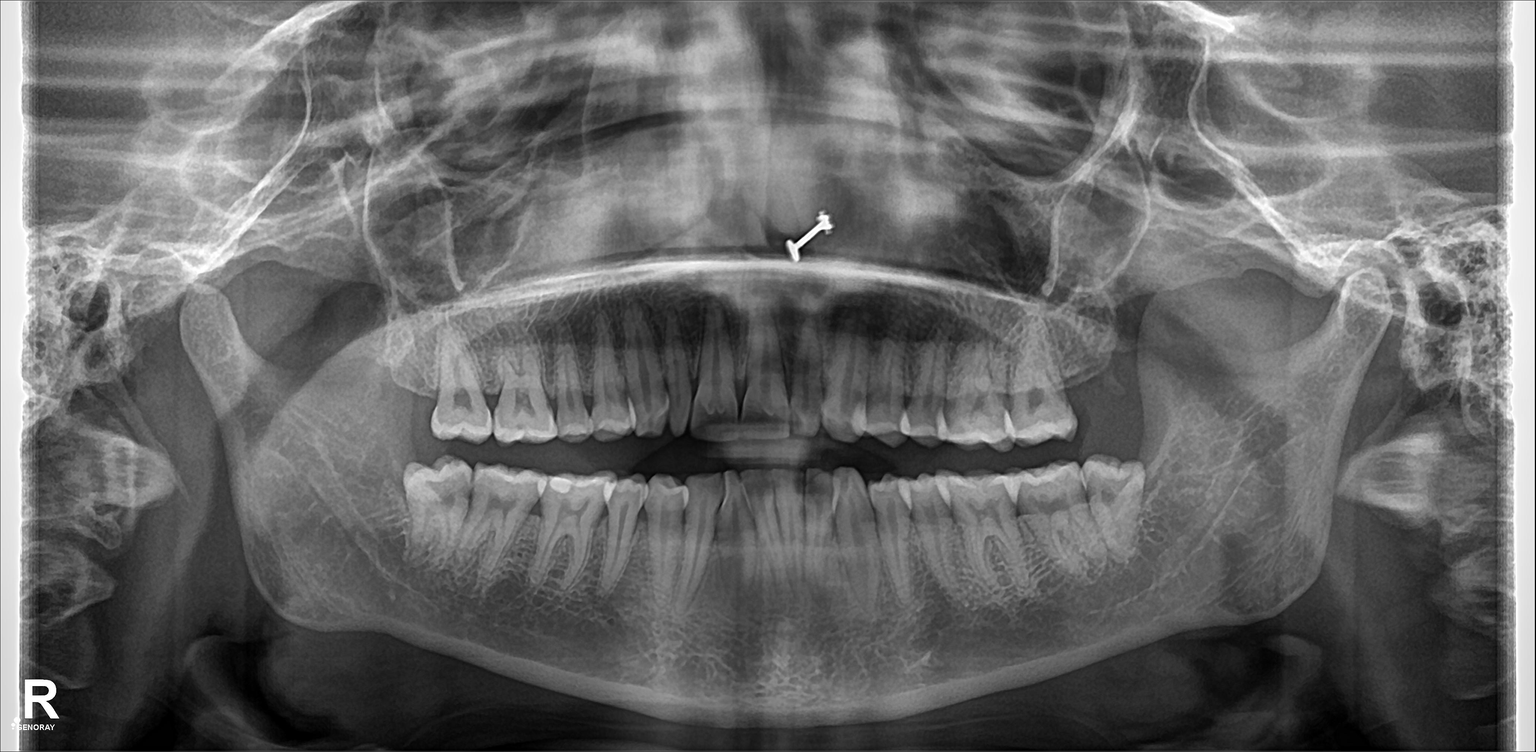Impacted Third Molar: (1087, 462, 1152, 551)
Missing Tooth: (1065, 328, 1126, 422), (389, 337, 438, 422)
